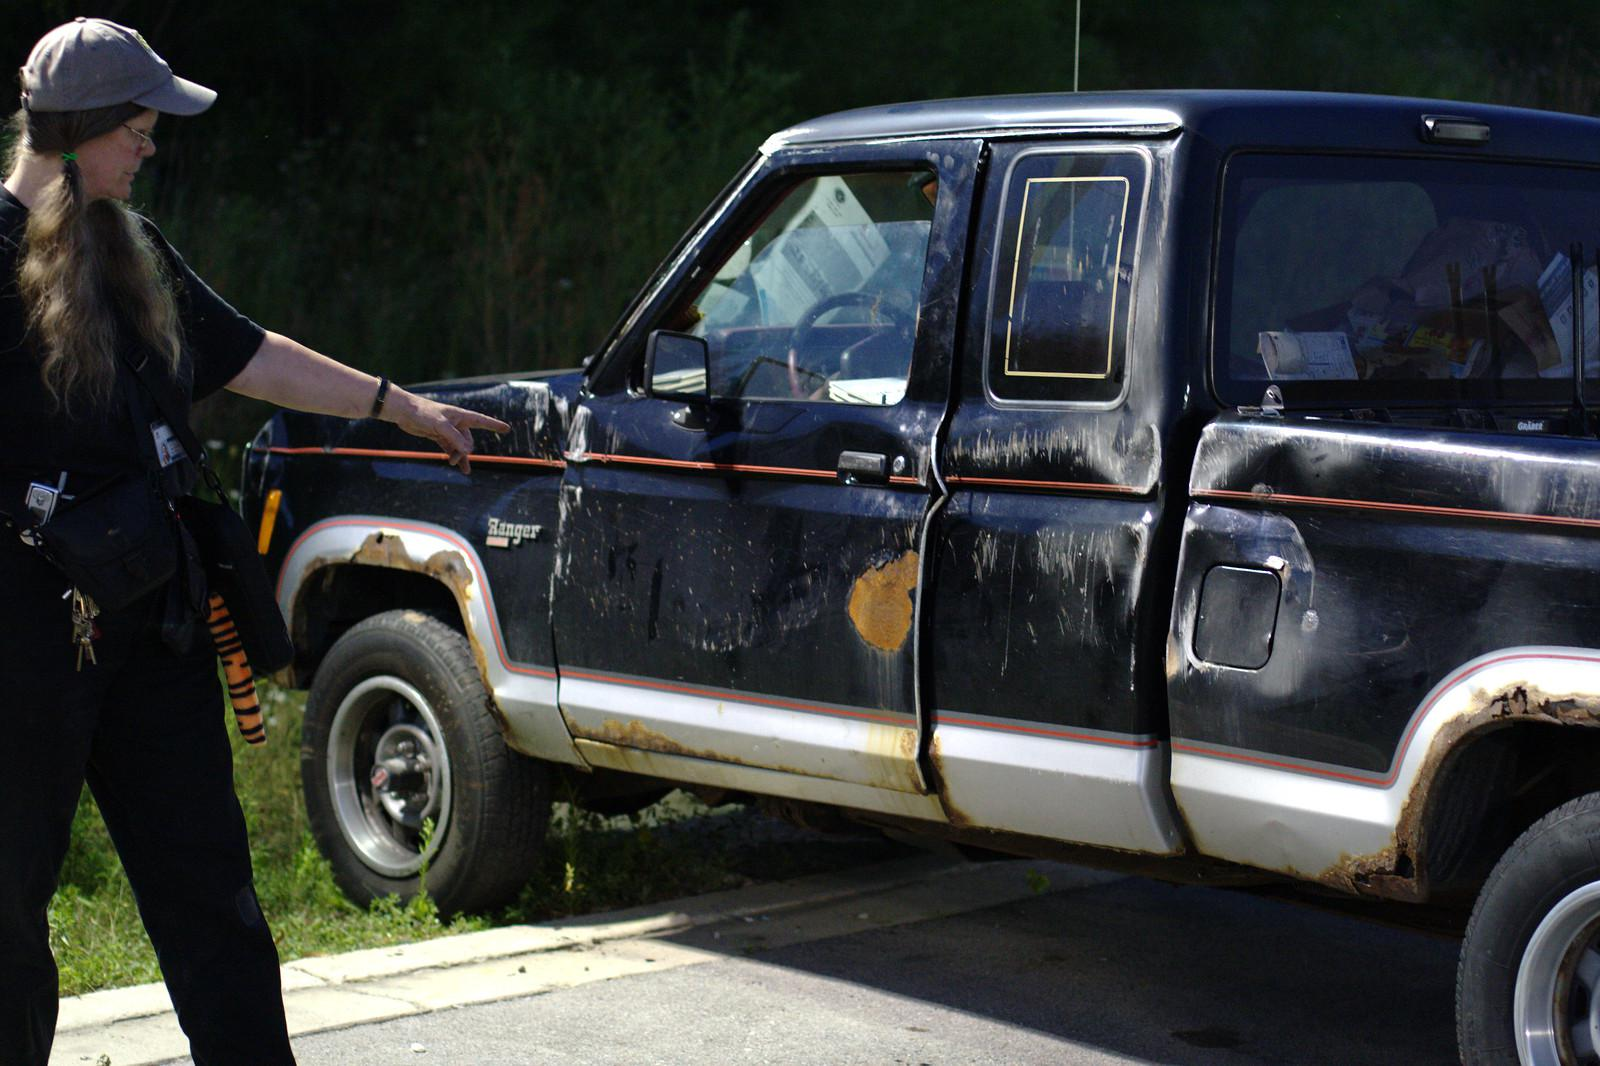doorouter-dent: (551, 383, 912, 769), (921, 393, 1175, 855)
quaterpanel-dent: (1198, 413, 1487, 805)
